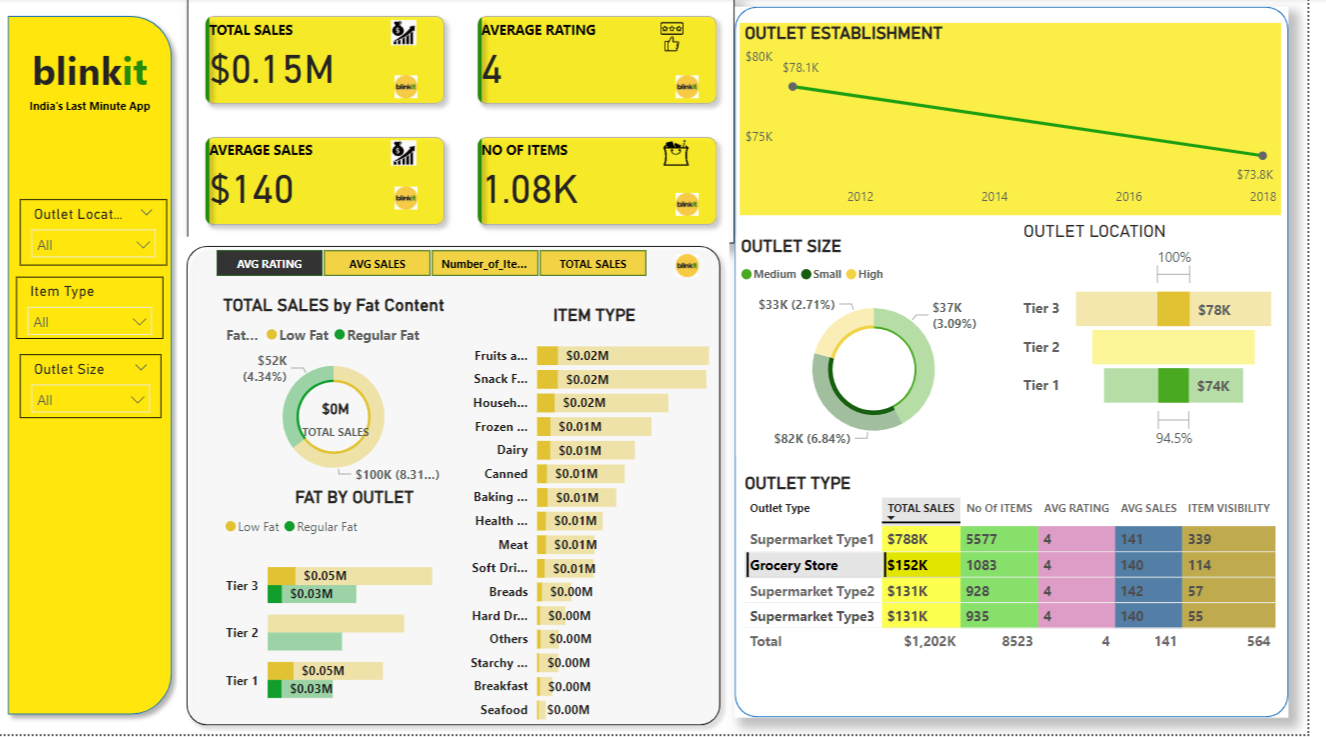

The dashboard page shown, as its layout file describes it:
{"tool":"powerbi","page":{"name":"Page 1","canvas":[1280,720],"ordinal":0},"visuals":[{"type":"shape","box":[0,8.2,178.4,701.2],"z":0},{"type":"textbox","box":[14.9,40.6,149,92.1],"z":1000},{"type":"textbox","box":[238.8,8.2,178.4,32.9],"z":2000},{"type":"cardVisual","fields":{"Data":["Sum(BlinkIT Grocery Data.Sales)","Avg(BlinkIT Grocery Data.Rating)","Avg(BlinkIT Grocery Data.Sales)","BlinkIT Grocery Data.Number_of_Items"]},"box":[184.3,0,535.1,239.8],"z":3000},{"type":"shape","box":[174.4,233.5,540.1,486.7],"z":4000},{"type":"donutChart","fields":{"Category":["BlinkIT Grocery Data.Item Fat Content"],"Y":["Sum(BlinkIT Grocery Data.Sales)"]},"box":[214.1,289.9,227.6,191],"z":5000},{"type":"clusteredBarChart","title":"FAT BY OUTLET","fields":{"Category":["BlinkIT Grocery Data.Outlet Location Type"],"Series":["BlinkIT Grocery Data.Item Fat Content"],"Y":["Sum(BlinkIT Grocery Data.Sales)"]},"box":[216.6,478.2,263,232.1],"z":6000},{"type":"barChart","title":"ITEM TYPE","fields":{"Category":["BlinkIT Grocery Data.Item Type"],"Y":["Sum(BlinkIT Grocery Data.Sales)"]},"box":[444.5,299.6,275.7,420.6],"z":7000},{"type":"shape","box":[720.2,8.4,541.5,694.9],"z":8000},{"type":"donutChart","title":"OUTLET SIZE","fields":{"Y":["Sum(BlinkIT Grocery Data.Sales)"],"Category":["BlinkIT Grocery Data.Outlet Size"]},"box":[720.7,231.7,269.6,215.4],"z":9000},{"type":"slicer","fields":{"Values":["Parameter.Parameter"]},"box":[187,239.8,470.1,39.3],"z":10000},{"type":"lineChart","title":"OUTLET  ESTABLISHMENT","fields":{"Category":["BlinkIT Grocery Data.Outlet Establishment Year"],"Y":["Sum(BlinkIT Grocery Data.Sales)"]},"box":[724.8,24.4,529.7,188.3],"z":11000},{"type":"funnel","title":"OUTLET LOCATION","fields":{"Category":["BlinkIT Grocery Data.Outlet Location Type"],"Y":["BlinkIT Grocery Data.TOTAL SALES"]},"box":[997.1,218.1,257.4,229],"z":12000},{"type":"pivotTable","title":"OUTLET TYPE","fields":{"Rows":["BlinkIT Grocery Data.Outlet Type"],"Values":["BlinkIT Grocery Data.TOTAL SALES","BlinkIT Grocery Data.Number_of_Items","BlinkIT Grocery Data.AVG RATING","BlinkIT Grocery Data.AVG SALES","Sum(BlinkIT Grocery Data.Item Visibility)"]},"box":[724.8,464.7,533.8,211.3],"z":13000},{"type":"card","fields":{"Values":["BlinkIT Grocery Data.TOTAL SALES"]},"box":[289.9,386.1,79.9,47.4],"z":14000},{"type":"slicer","fields":{"Values":["BlinkIT Grocery Data.Item Type"]},"box":[17.6,272.3,143.6,61],"z":15000},{"type":"slicer","fields":{"Values":["BlinkIT Grocery Data.Outlet Location Type"]},"box":[20.3,196.4,143.6,65],"z":16000},{"type":"slicer","fields":{"Values":["BlinkIT Grocery Data.Outlet Size"]},"box":[20.3,348.2,138.2,62.3],"z":17000},{"type":"image","box":[375.3,70.4,46.1,32.5],"z":18000},{"type":"image","box":[650.3,185.6,46.1,32.5],"z":19000},{"type":"image","box":[375.3,180.2,46.1,32.5],"z":20000},{"type":"image","box":[650.3,70.4,46.1,32.5],"z":21000},{"type":"image","box":[650.3,245.2,46.1,32.5],"z":22000}]}

Visuals, with their boxes in screenshot pixels (x1, y1, x2, y2), scaled from the page's 1280x720 canvas onto the 1326x737 screenshot:
shape: left=0, top=8, right=185, bottom=726
textbox: left=15, top=42, right=170, bottom=136
textbox: left=247, top=8, right=432, bottom=42
cardVisual - Sum(BlinkIT Grocery Data.Sales) x Avg(BlinkIT Grocery Data.Rating): left=191, top=0, right=745, bottom=245
shape: left=181, top=239, right=740, bottom=736
donutChart - BlinkIT Grocery Data.Item Fat Content x Sum(BlinkIT Grocery Data.Sales): left=222, top=297, right=458, bottom=492
"FAT BY OUTLET" clusteredBarChart: left=224, top=489, right=497, bottom=727
"ITEM TYPE" barChart: left=460, top=307, right=746, bottom=736
shape: left=746, top=9, right=1307, bottom=720
"OUTLET SIZE" donutChart: left=747, top=237, right=1026, bottom=458
slicer - Parameter.Parameter: left=194, top=245, right=681, bottom=286
"OUTLET  ESTABLISHMENT" lineChart: left=751, top=25, right=1300, bottom=218
"OUTLET LOCATION" funnel: left=1033, top=223, right=1300, bottom=458
"OUTLET TYPE" pivotTable: left=751, top=476, right=1304, bottom=692
card - BlinkIT Grocery Data.TOTAL SALES: left=300, top=395, right=383, bottom=444
slicer - BlinkIT Grocery Data.Item Type: left=18, top=279, right=167, bottom=341
slicer - BlinkIT Grocery Data.Outlet Location Type: left=21, top=201, right=170, bottom=268
slicer - BlinkIT Grocery Data.Outlet Size: left=21, top=356, right=164, bottom=420
image: left=389, top=72, right=437, bottom=105
image: left=674, top=190, right=721, bottom=223
image: left=389, top=184, right=437, bottom=218
image: left=674, top=72, right=721, bottom=105
image: left=674, top=251, right=721, bottom=284
